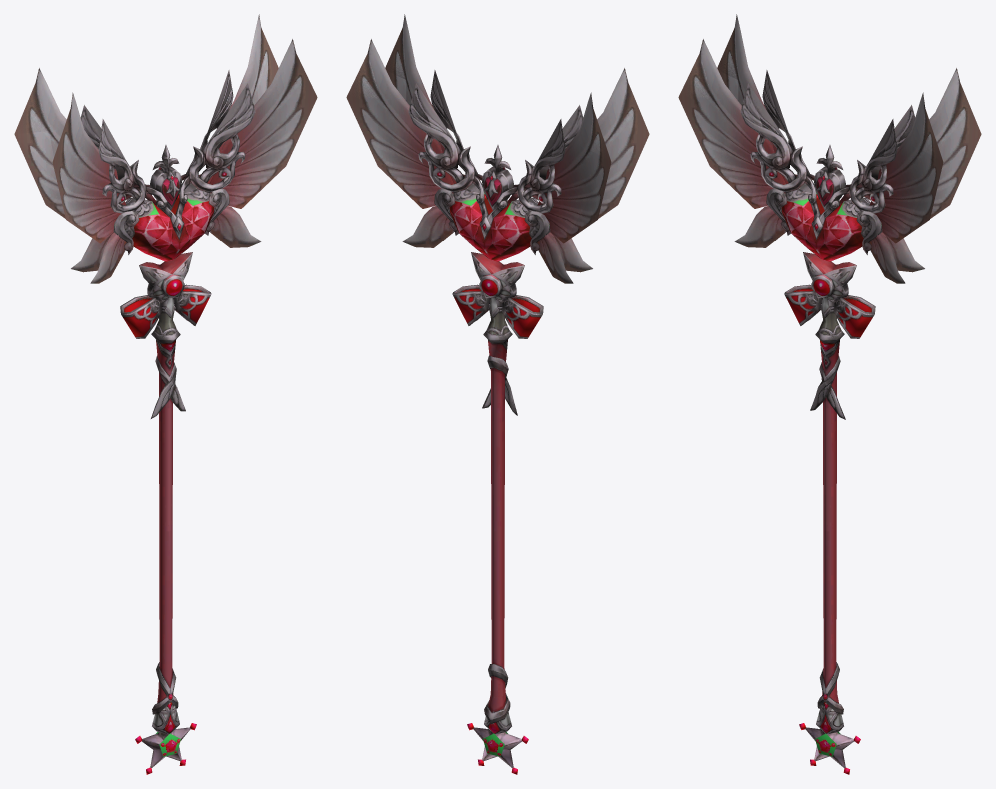
File: baston.gltf
3 renders of one model, left to right at view 1: azimuth 30°, elevation 25°; view 2: azimuth 150°, elevation 25°; view 3: azimuth 330°, elevation 25°, orthographic.
Parts seen in each view (by area): view 1: uploads_files_3002537_Blessed+Scepter; view 2: uploads_files_3002537_Blessed+Scepter; view 3: uploads_files_3002537_Blessed+Scepter.
Part boxes in pixels (x1=…): uploads_files_3002537_Blessed+Scepter: x1=14, y1=14, x2=317, y2=774; uploads_files_3002537_Blessed+Scepter: x1=346, y1=14, x2=649, y2=774; uploads_files_3002537_Blessed+Scepter: x1=678, y1=14, x2=981, y2=774.
Size of the model in its own units: 6.47 by 16.71 by 1.61.
Materials: 1 (1 with a texture image).
